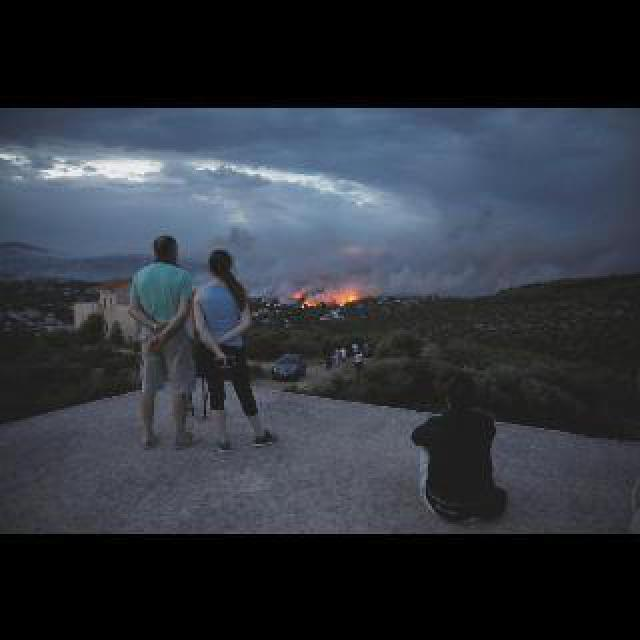zfire: (288, 284, 320, 310), (330, 286, 358, 308)
